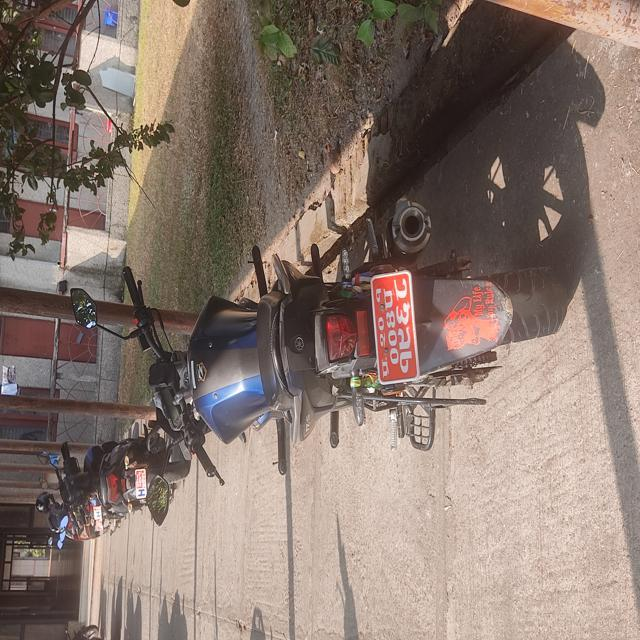license_plate: (369, 246, 435, 454)
